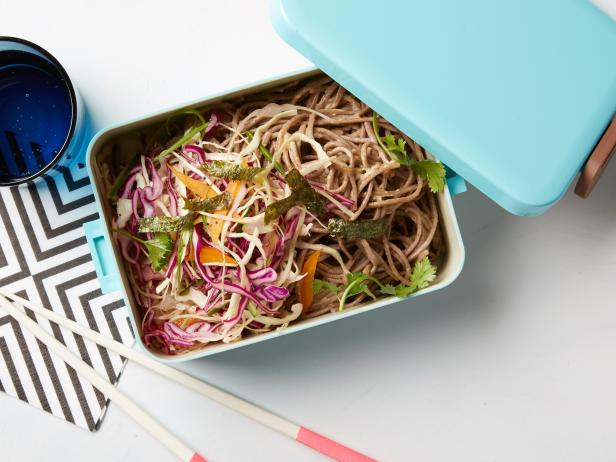Soba: (97, 75, 452, 337)
